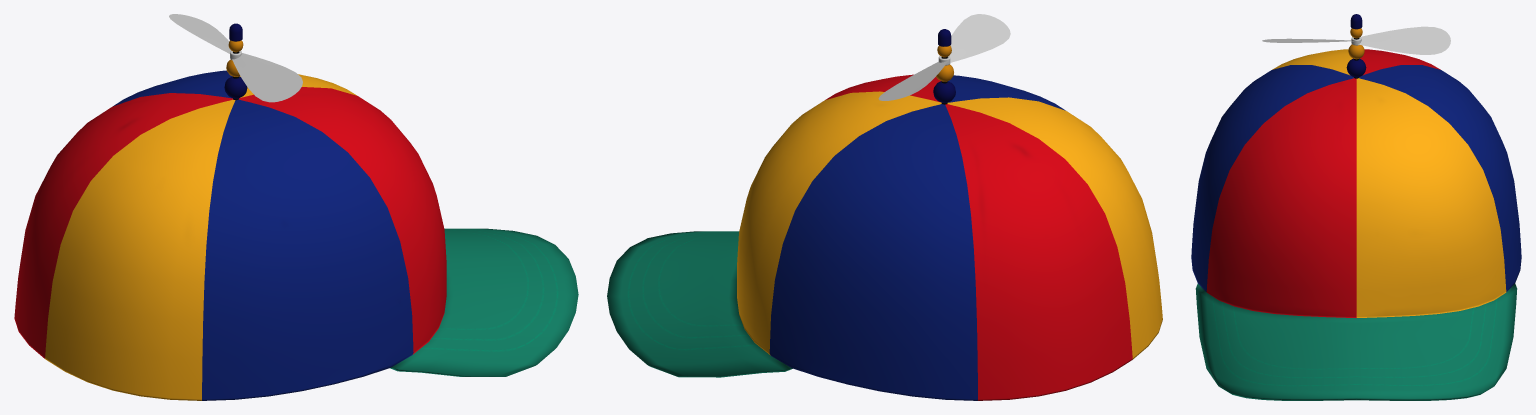
Rendered from propeller cap.obj.
3 renders of one model, left to right at view 1: azimuth 30°, elevation 25°; view 2: azimuth 150°, elevation 25°; view 3: azimuth 270°, elevation 25°, orthographic. The views are drawn at different scales.
Visible parts, largest first — view 1: cap, propeller, blue_sphere; view 2: cap, propeller, blue_sphere; view 3: cap, propeller, blue_sphere, yellow_sphere.
Part boxes in pixels (bbox=[...]): cap: bbox=[14, 70, 578, 400]; propeller: bbox=[169, 14, 302, 102]; blue_sphere: bbox=[224, 23, 247, 98]; cap: bbox=[607, 74, 1162, 400]; propeller: bbox=[878, 14, 1010, 100]; blue_sphere: bbox=[933, 29, 955, 102]; cap: bbox=[1191, 49, 1521, 400]; propeller: bbox=[1262, 26, 1450, 54]; blue_sphere: bbox=[1346, 14, 1366, 77]; yellow_sphere: bbox=[1348, 28, 1364, 59].
Size of the model in its own units: 0.2415 by 0.1521 by 0.1607.
6 materials, 2 textured.
